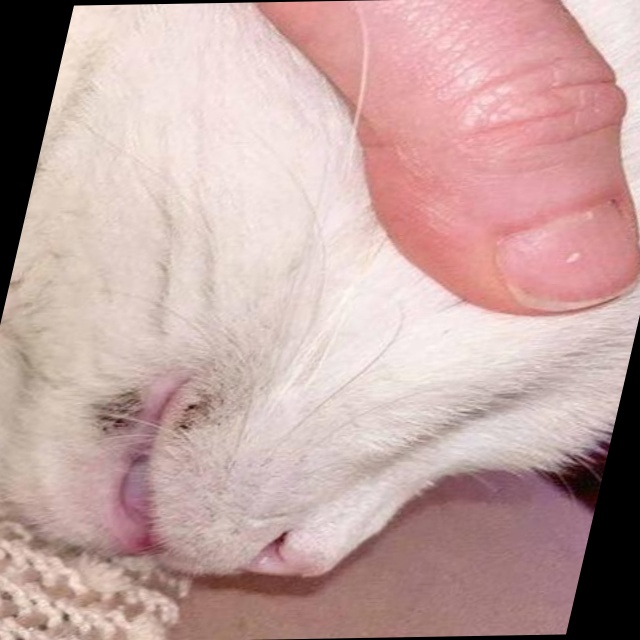acne: (160, 382, 248, 435), (77, 390, 157, 437)
